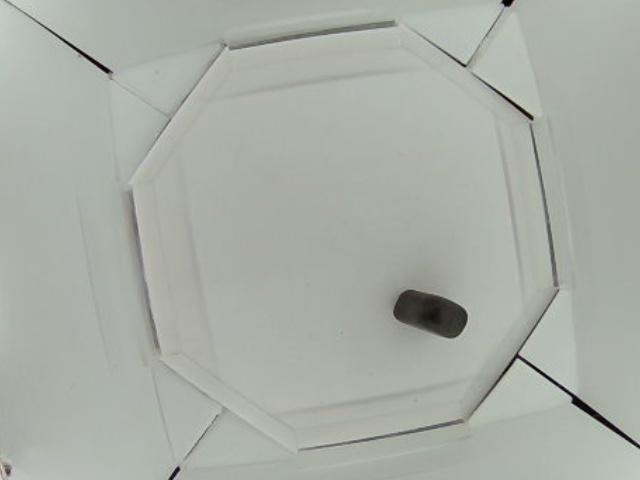Pebble: (396, 288, 468, 342)
